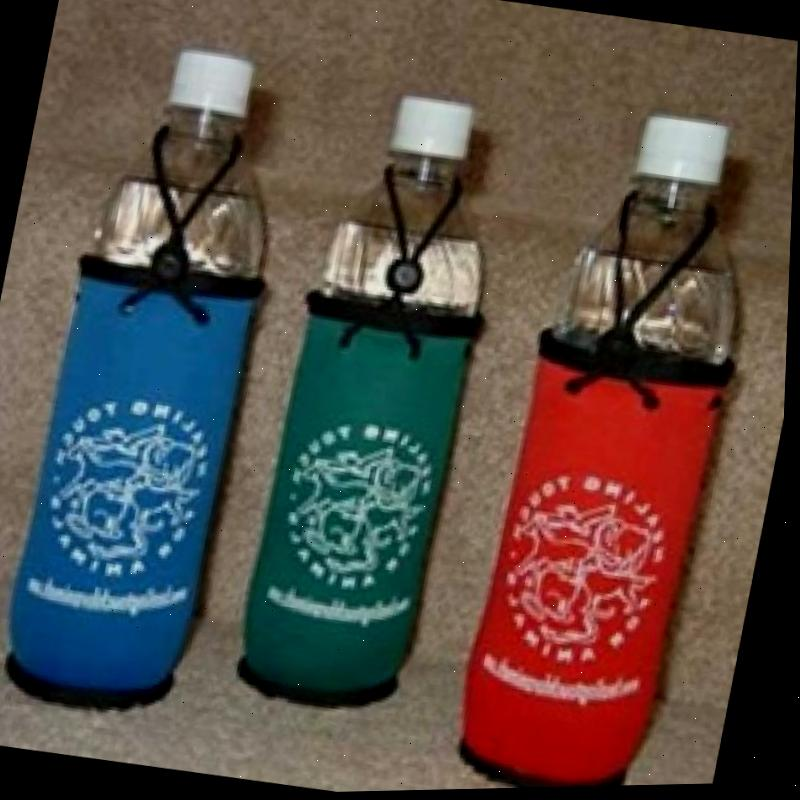botella: (64, 35, 304, 302), (552, 108, 783, 382), (315, 79, 528, 320)
